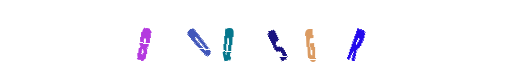8: (118, 0, 198, 80)
G: (270, 0, 350, 80)
O: (195, 0, 275, 80)
Q: (201, 0, 281, 80)
R: (316, 0, 396, 80)
S: (220, 0, 300, 80)
